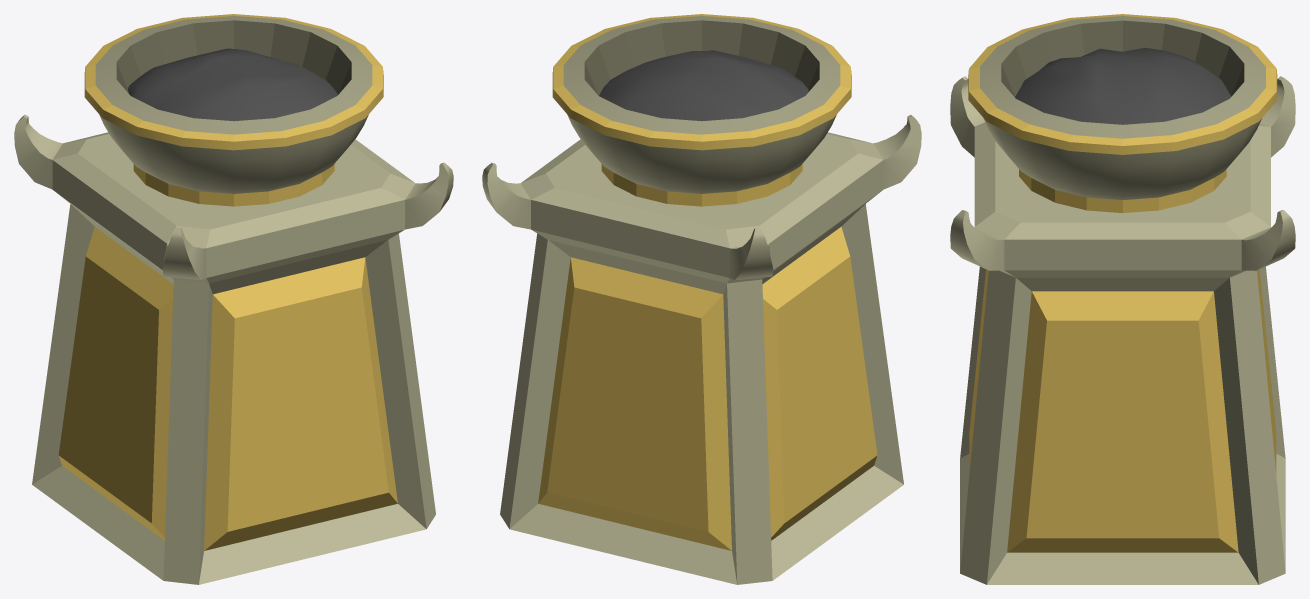
The model's file is Brasero.fbx.
3 views of the same model, side by side, from view 1: azimuth 30°, elevation 25°; view 2: azimuth 150°, elevation 25°; view 3: azimuth 270°, elevation 25° (orthographic). The views are drawn at different scales.
Visible parts, largest first — view 1: Brasero; view 2: Brasero; view 3: Brasero.
Boxes of the visible parts, x1=… form: Brasero: x1=14, y1=14, x2=453, y2=584; Brasero: x1=482, y1=14, x2=921, y2=584; Brasero: x1=950, y1=14, x2=1295, y2=584.
Bounding box in the file's own units: 100 × 145 × 101.
